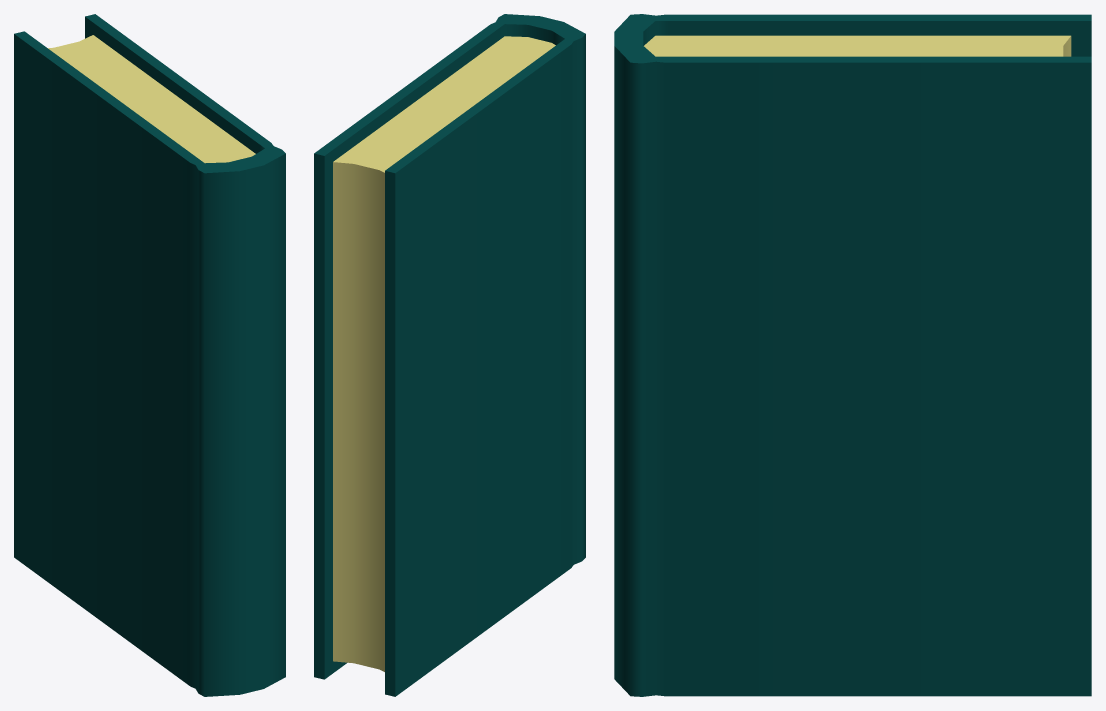
File: book_green2.fbx
3 views of the same model, side by side, from view 1: azimuth 30°, elevation 25°; view 2: azimuth 150°, elevation 25°; view 3: azimuth 270°, elevation 25° (orthographic). The views are drawn at different scales.
Parts seen in each view (by area): view 1: Book_Small_Green; view 2: Book_Small_Green; view 3: Book_Small_Green.
Boxes of the visible parts, bbox=[...] form: Book_Small_Green: bbox=[14, 14, 285, 696]; Book_Small_Green: bbox=[314, 14, 585, 696]; Book_Small_Green: bbox=[614, 14, 1091, 696].
Size of the model in its own units: 6.3 by 37.64 by 25.69.
